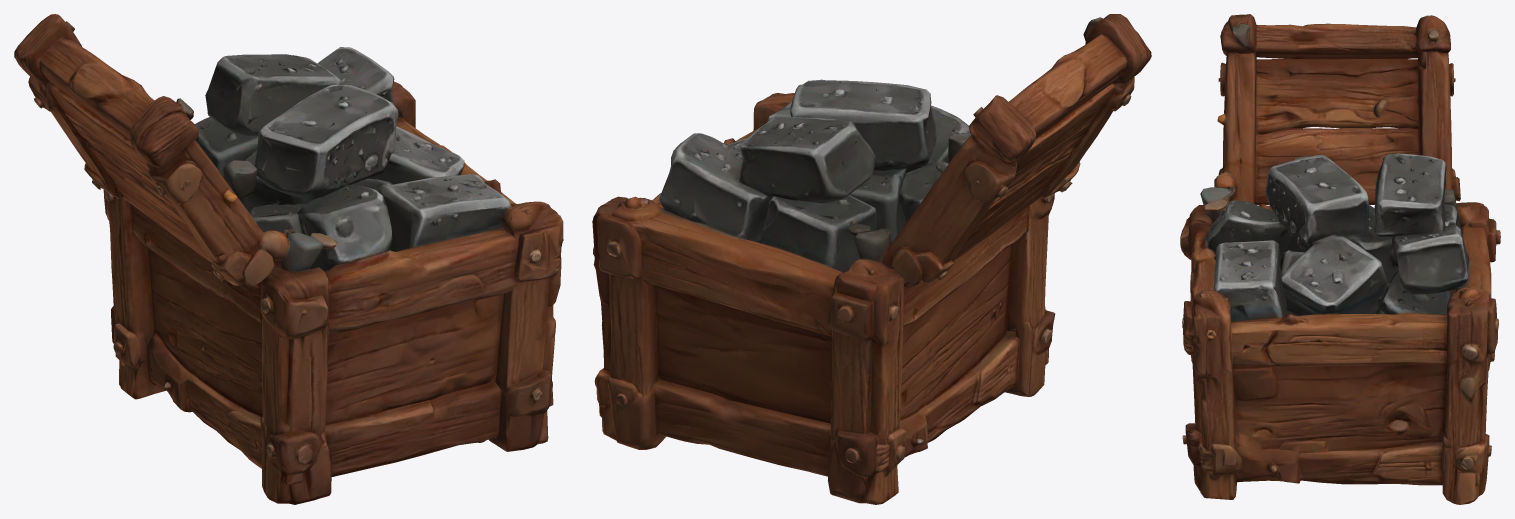
File: caja-hierro.glb
The picture shows the model from 3 angles, left to right: view 1: azimuth 30°, elevation 25°; view 2: azimuth 150°, elevation 25°; view 3: azimuth 270°, elevation 25°; orthographic projection. The views are drawn at different scales.
Size of the model in its own units: 0.9814 by 0.9339 by 0.7947.
1 material, 1 textured.
